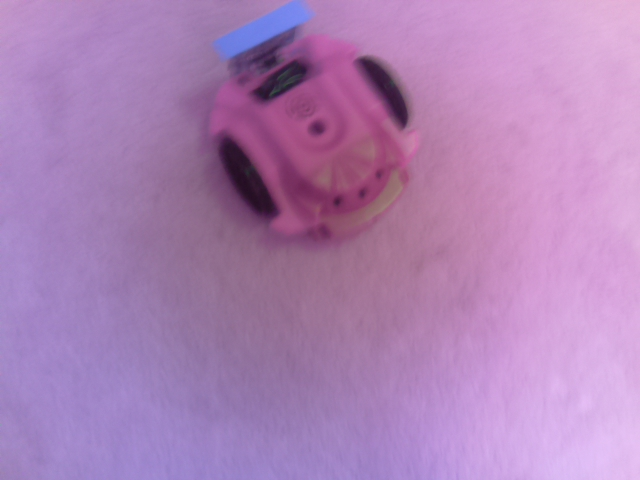board: (211, 1, 316, 65)
chassis: (207, 2, 423, 250)
